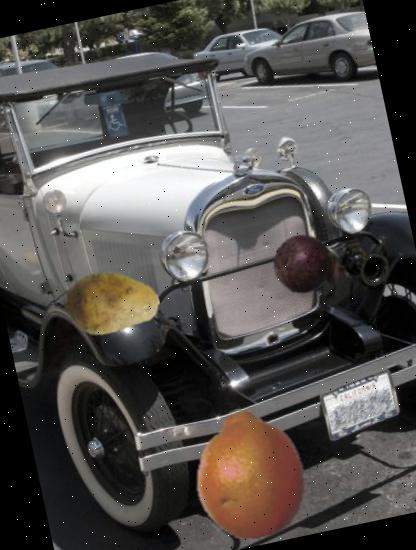Mangostan: (266, 224, 348, 306)
Potato: (56, 246, 167, 357)
Tangelo: (175, 398, 327, 550)
